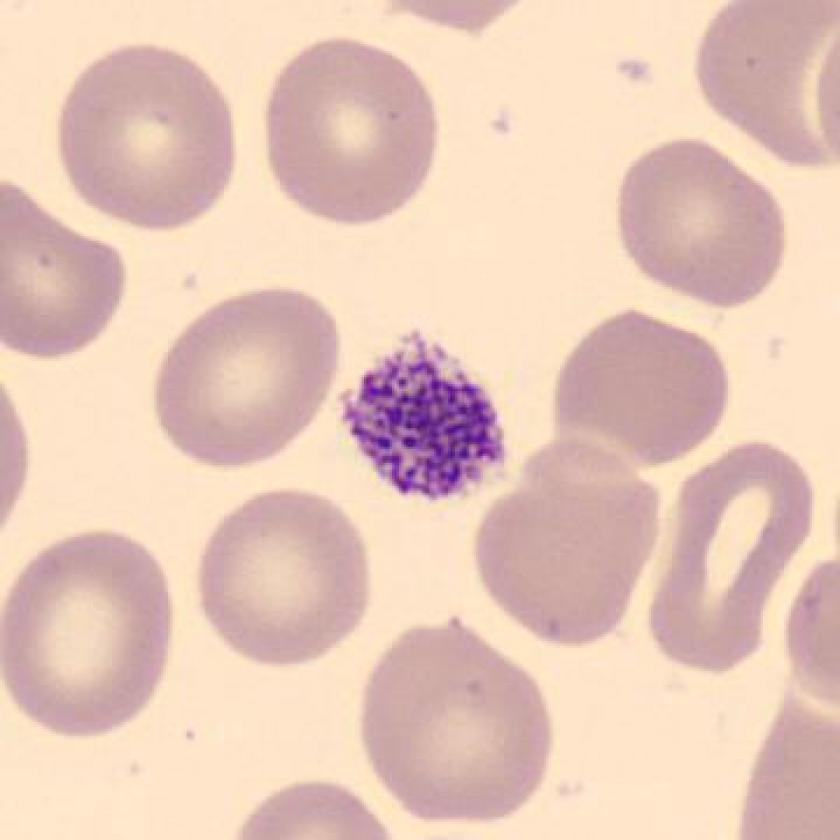platelets: (339, 325, 519, 508)
